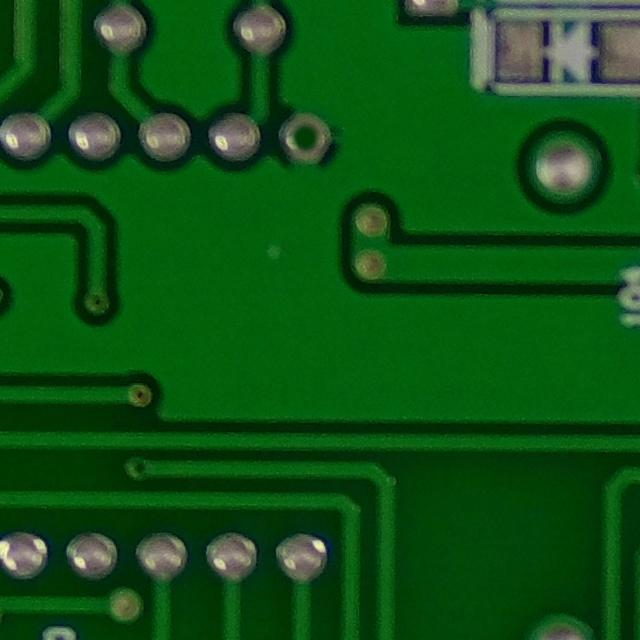missing_hole: (277, 106, 341, 180)
